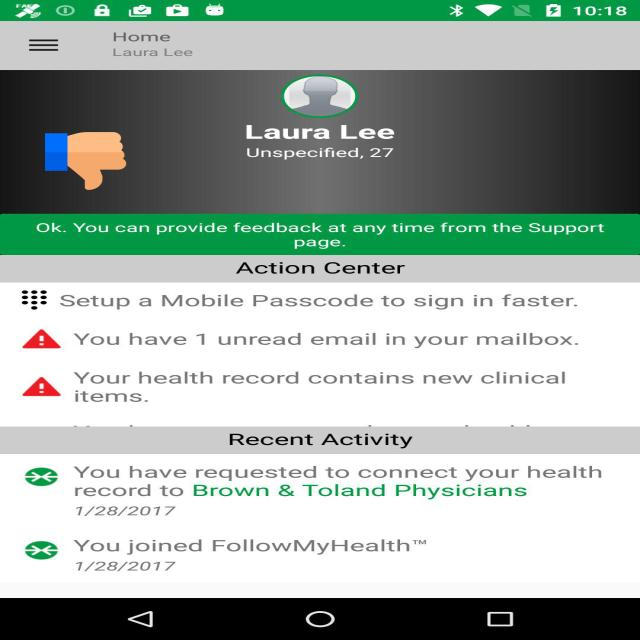obstruction: (45, 131, 126, 191)
